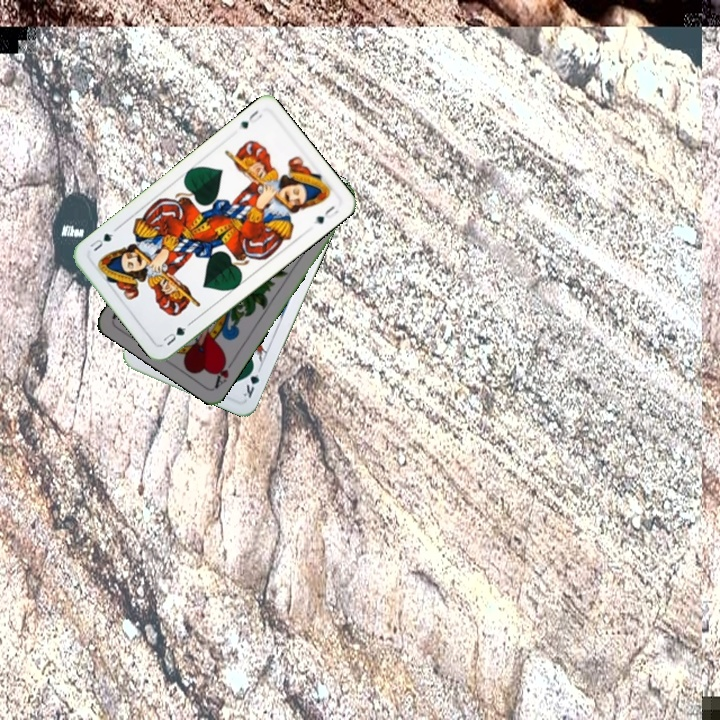GK: (239, 361, 263, 401)
GU: (157, 319, 193, 348), (237, 106, 266, 131)
HA: (211, 353, 238, 390)
